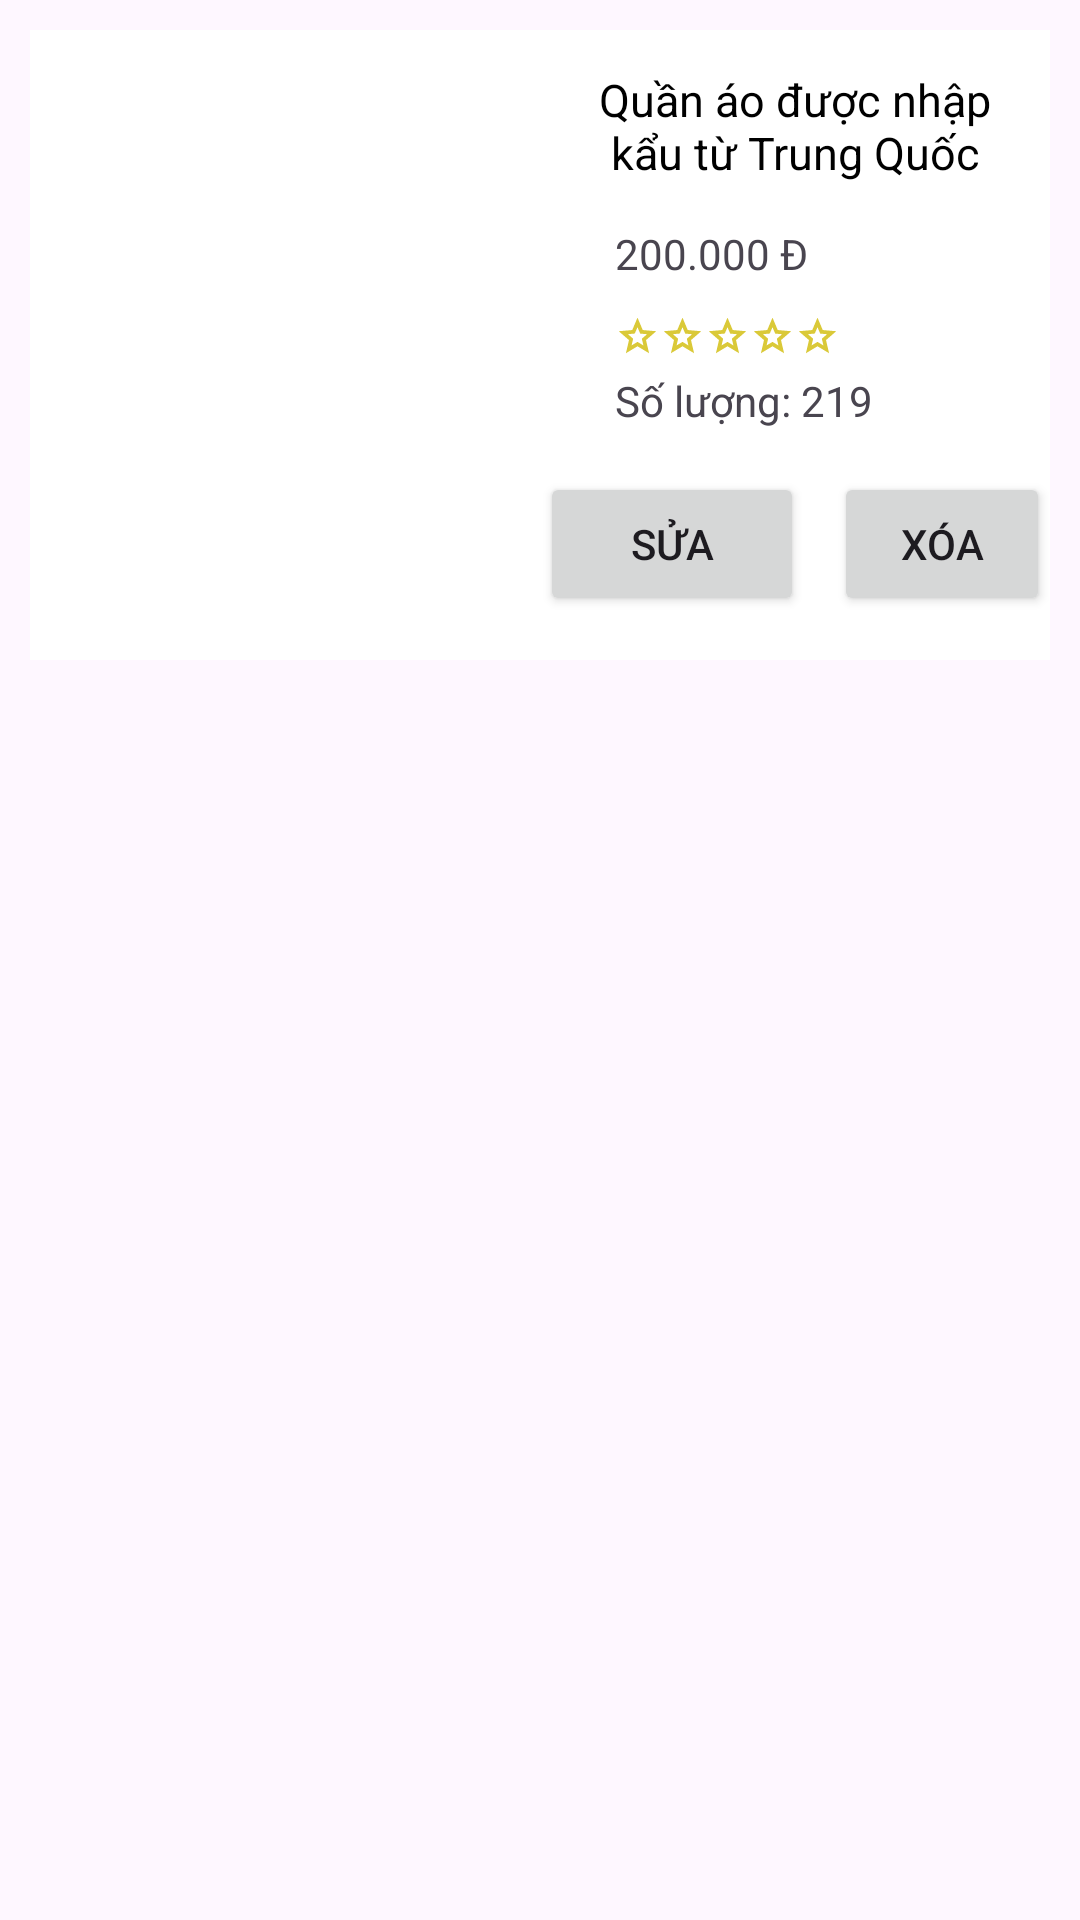

Where icons sit on this 1080×1920 app screen, as {"x1": x1, "y1": y1, "x2": x2, "y2": y2}:
star: {"x1": 619, "y1": 318, "x2": 656, "y2": 353}, {"x1": 664, "y1": 318, "x2": 701, "y2": 353}, {"x1": 709, "y1": 318, "x2": 746, "y2": 353}, {"x1": 754, "y1": 318, "x2": 791, "y2": 353}, {"x1": 799, "y1": 318, "x2": 836, "y2": 353}
